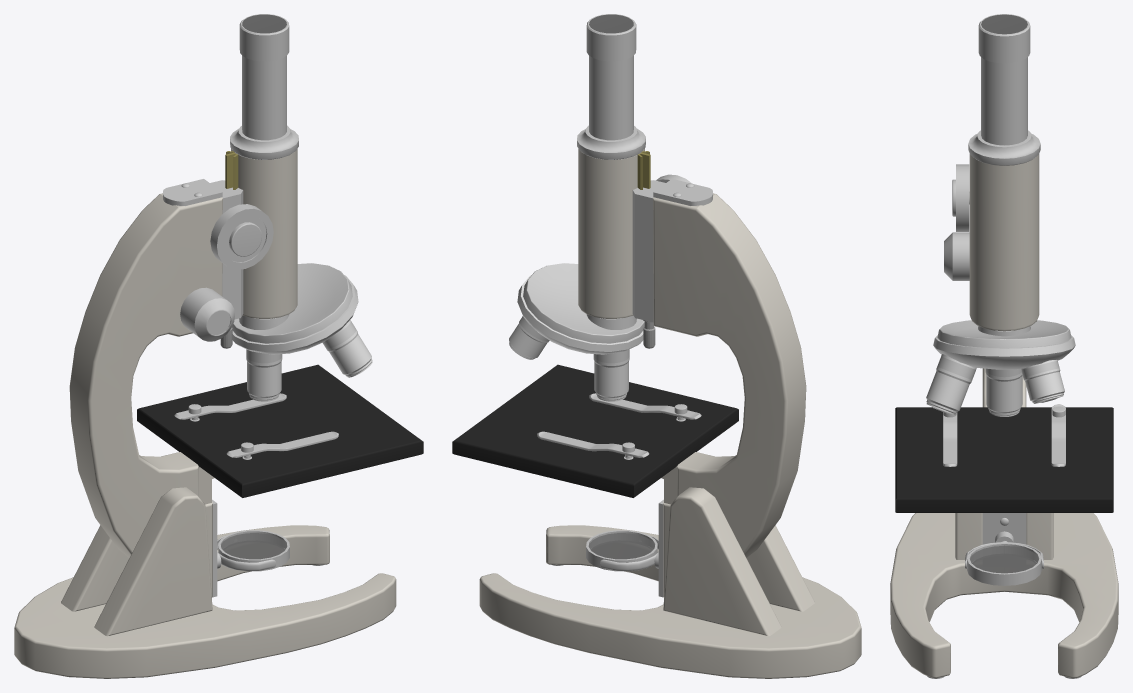
3 views of the same model, side by side, from view 1: azimuth 30°, elevation 25°; view 2: azimuth 150°, elevation 25°; view 3: azimuth 270°, elevation 25° (orthographic). The views are drawn at different scales.
Parts seen in each view (by area): view 1: pCube20 (×10); view 2: pCube20 (×9); view 3: pCube20 (×9).
Part boxes in pixels (x1,y1,x2,y2): pCube20 (×10): (14, 14, 423, 678); pCube20 (×9): (452, 14, 861, 678); pCube20 (×9): (890, 14, 1118, 678).
Bounding box in the file's own units: 1.26 × 2 × 0.682.
